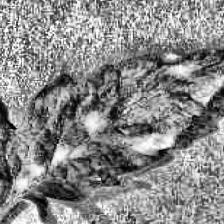leaf mold: (0, 48, 224, 224)
